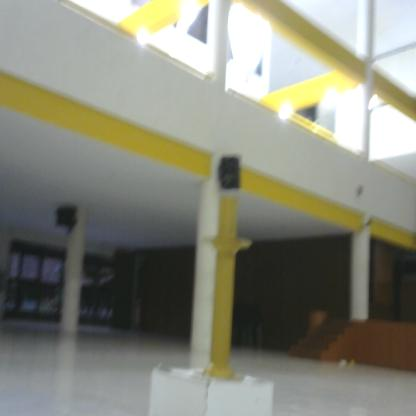pole: (192, 197, 257, 391)
